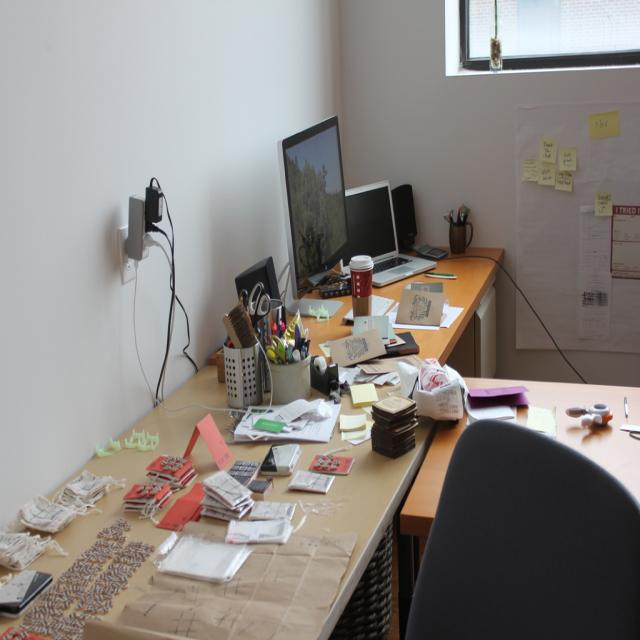chair: (403, 417, 639, 633)
desk: (392, 389, 640, 638)
laptop: (342, 179, 434, 286)
tv: (279, 113, 349, 294)
